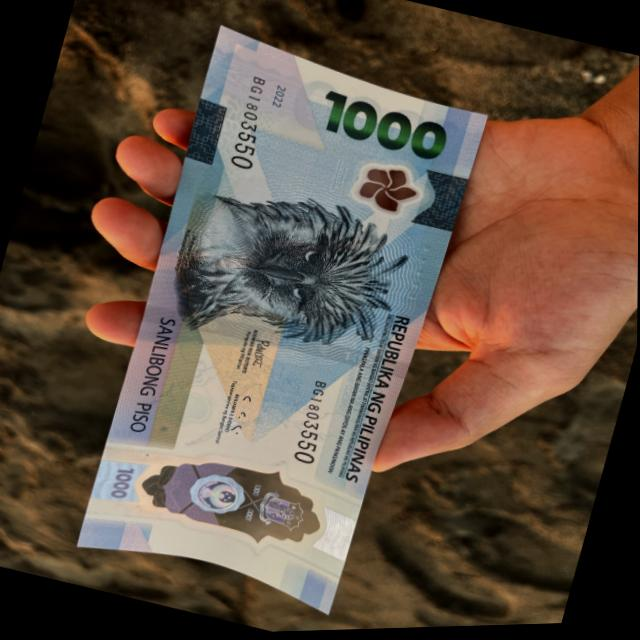clear_window: (84, 418, 373, 597)
eagle: (156, 159, 435, 386)
sampaguita: (340, 159, 428, 230)
